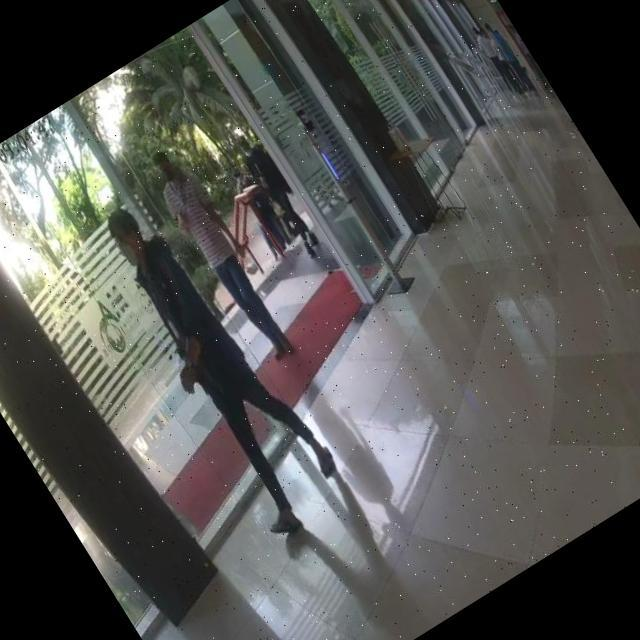person: (89, 183, 354, 539), (140, 138, 304, 368), (230, 127, 326, 260)
